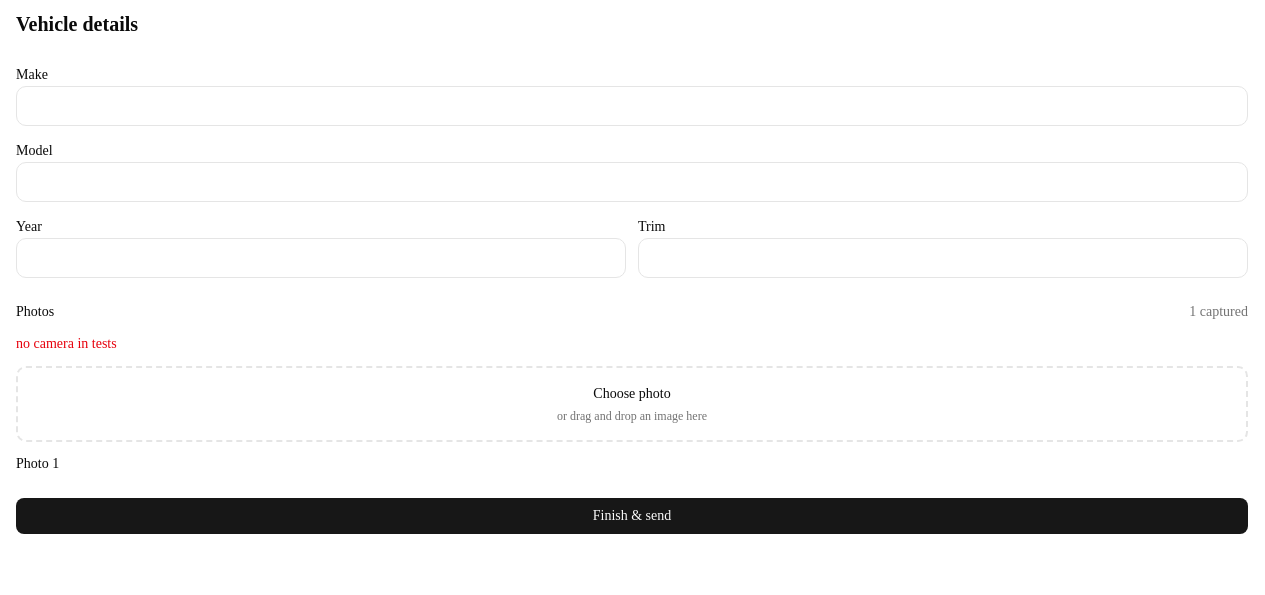
Test: VehiclePageClient › with an active session (immediate send) › stays on the page and shows an inline error when the immediate send fails, instead of silently navigating away
What coordinates should you click on to do the following:
click the button "Finish & send"
I would click on:
 (632, 516)
Its box is 16,498 -> 1248,534.
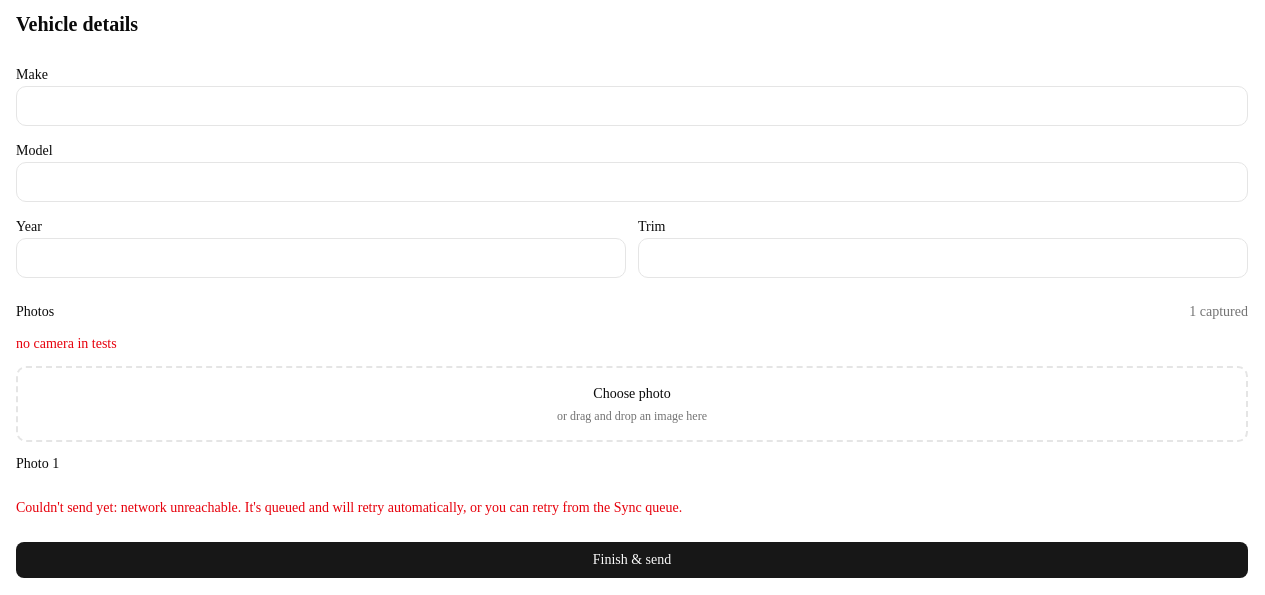
expect the text "couldn.t send yet" is shown: met, box 16,500 -> 682,515
